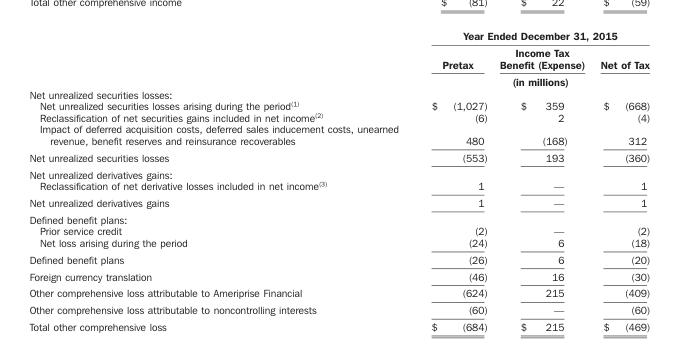table: (28, 29, 649, 332)
table column: (28, 29, 414, 332), (492, 29, 591, 332), (414, 29, 492, 332), (591, 29, 649, 332)
table column header: (28, 29, 649, 87)
table projected row header: (28, 165, 649, 179), (28, 210, 649, 224), (28, 87, 649, 99)
table row: (28, 43, 649, 72), (28, 122, 649, 148), (28, 148, 649, 165), (28, 193, 649, 210), (28, 250, 649, 267), (28, 267, 649, 284), (28, 284, 649, 301), (28, 301, 649, 317), (28, 72, 649, 87), (28, 317, 649, 332), (28, 29, 649, 43), (28, 165, 649, 179), (28, 179, 649, 193), (28, 210, 649, 224), (28, 236, 649, 250), (28, 87, 649, 99), (28, 99, 649, 111), (28, 224, 649, 236), (28, 111, 649, 122)
table spanning cell: (414, 72, 649, 87), (414, 29, 649, 43)
